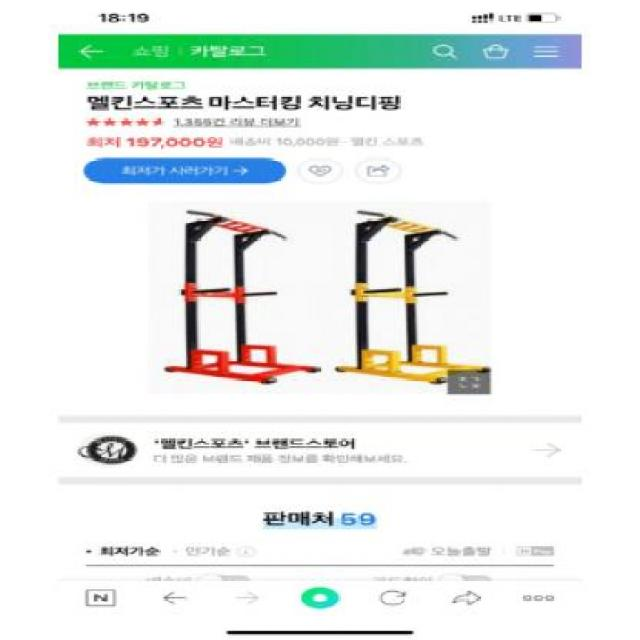chinning dipping: (165, 209, 320, 385)
